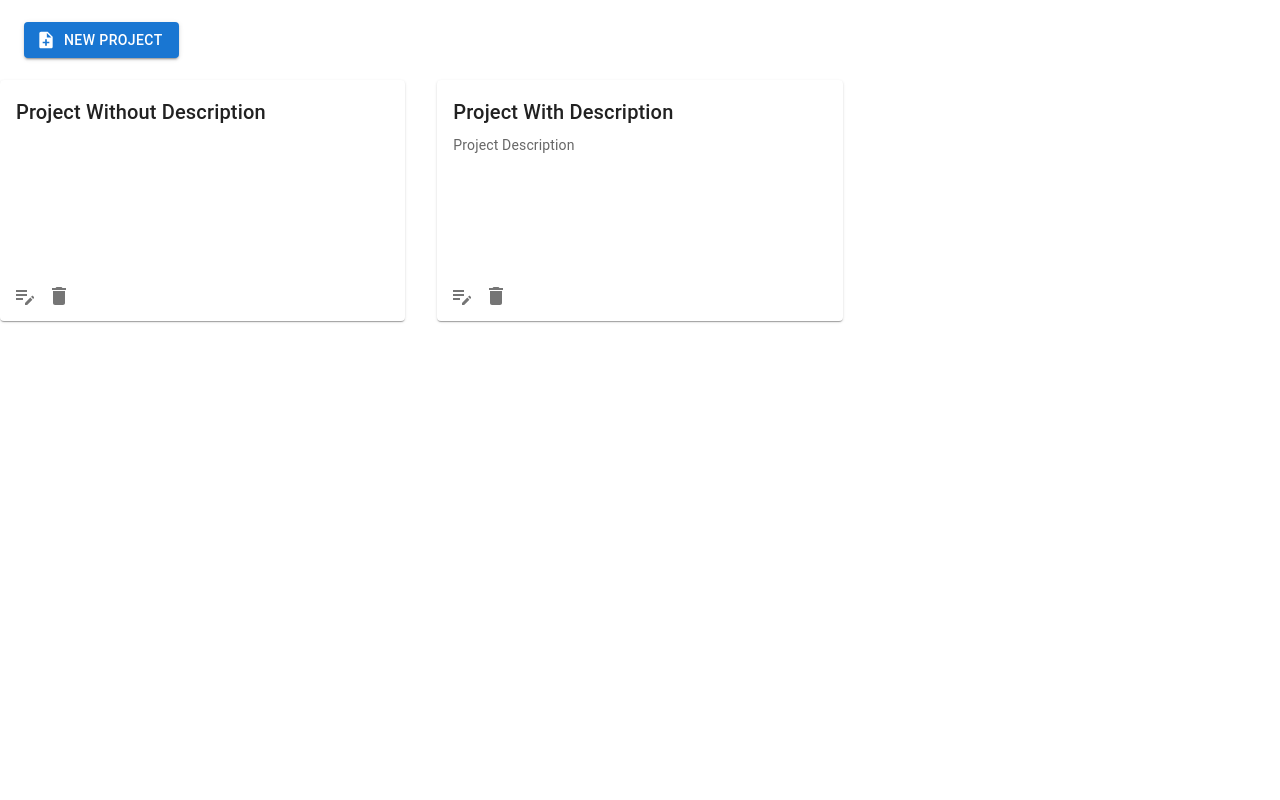
Test: should close dialog
Expected: the text "Project Without Description" is shown, [16,100,266,124]
Expected: the text "Project With Description" is shown, [453,100,673,124]
Click the button "New Project" at (101,40), box [24,22,179,58]
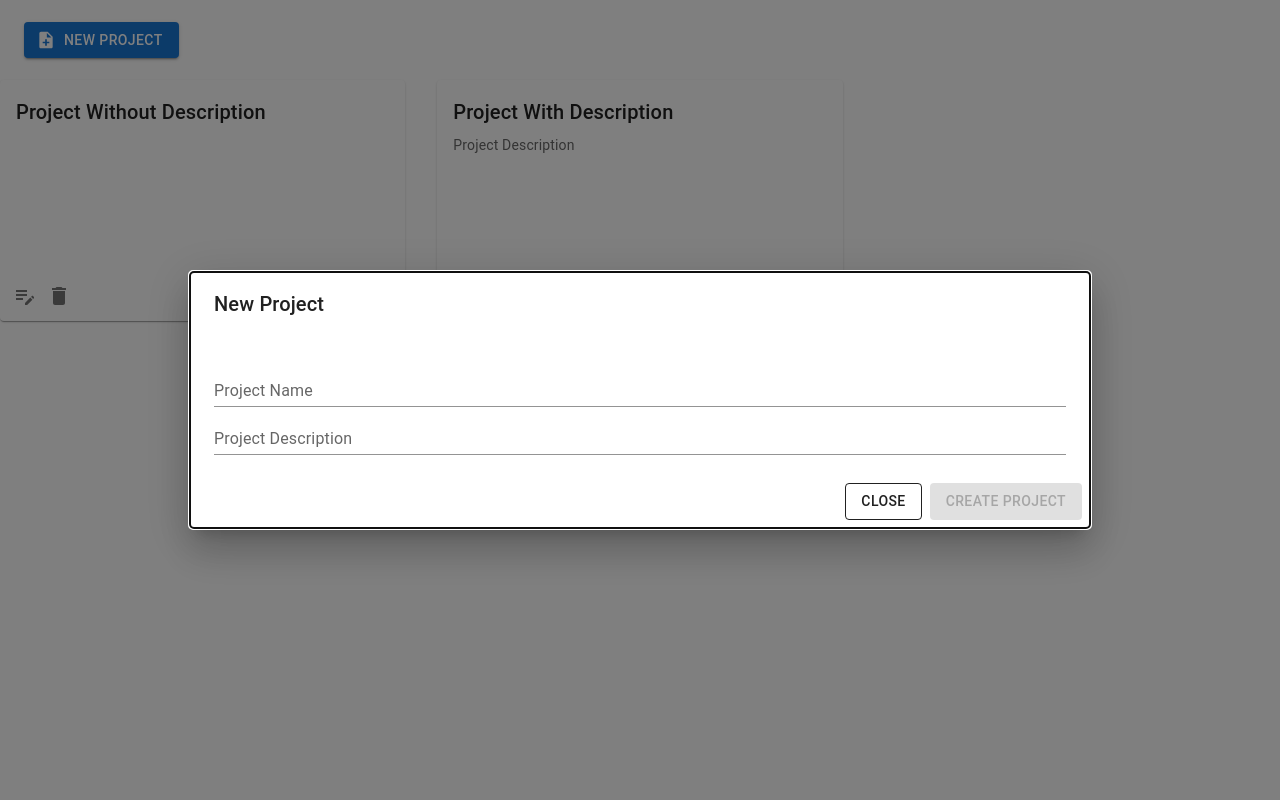
Click the button "Close" at (884,502), box [845,483,922,520]
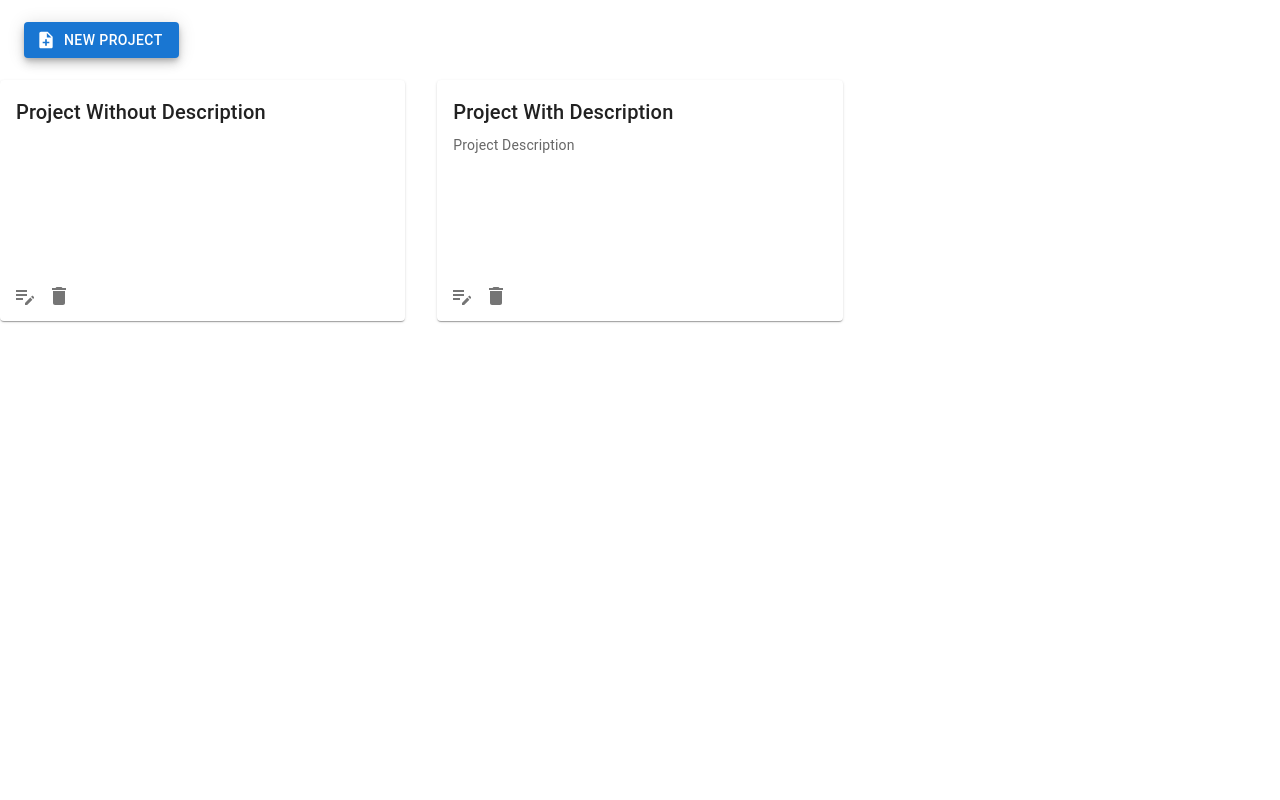
Expected: the dialog is gone
